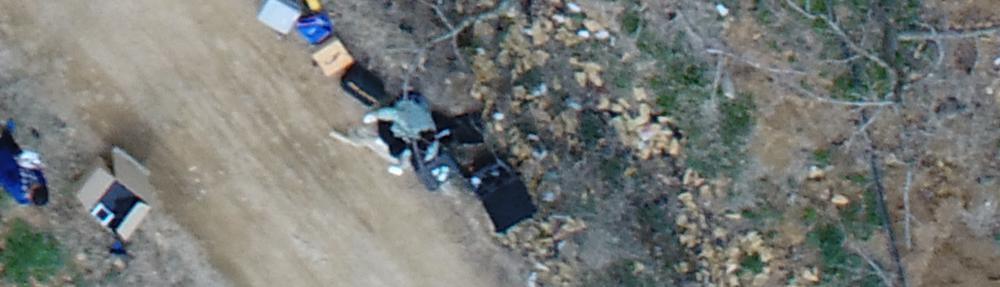apple: (711, 10, 990, 212)
